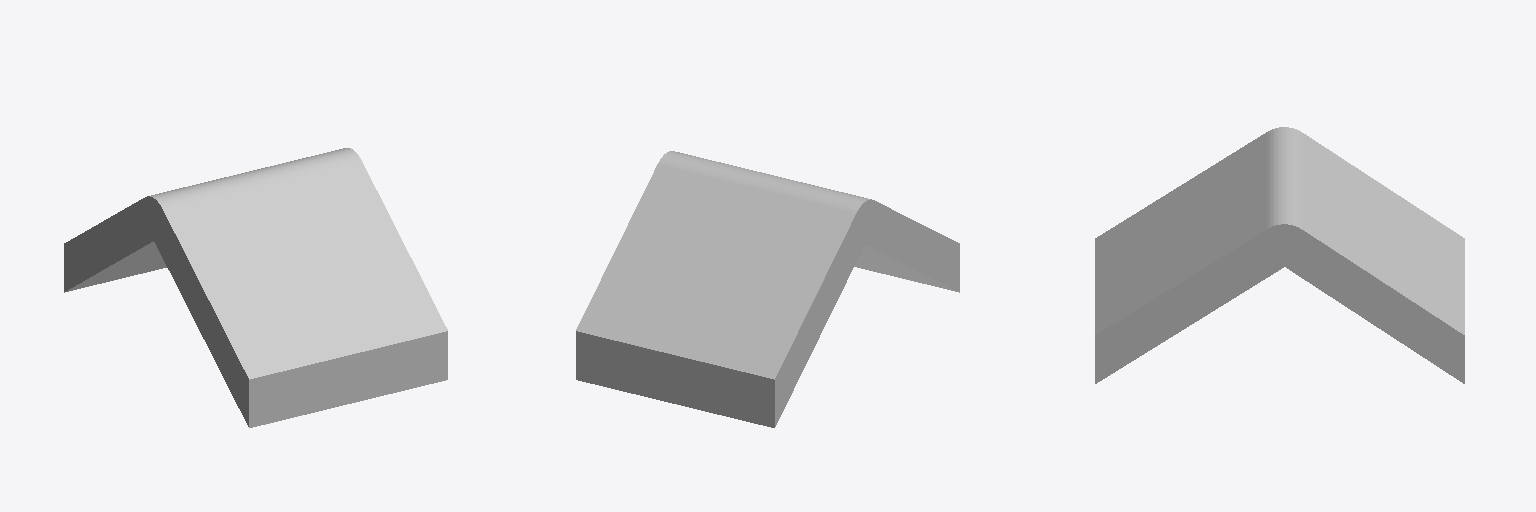
Rendered from original-6.obj.
3 renders of one model, left to right at view 1: azimuth 30°, elevation 25°; view 2: azimuth 150°, elevation 25°; view 3: azimuth 270°, elevation 25°, orthographic.
Parts seen in each view (by area): view 1: mesh17/mesh17-geometry#mesh17-geometry; view 2: mesh17/mesh17-geometry#mesh17-geometry; view 3: mesh17/mesh17-geometry#mesh17-geometry.
Part boxes in pixels (bbox=[...]): mesh17/mesh17-geometry#mesh17-geometry: bbox=[64, 148, 447, 427]; mesh17/mesh17-geometry#mesh17-geometry: bbox=[576, 151, 959, 427]; mesh17/mesh17-geometry#mesh17-geometry: bbox=[1095, 127, 1464, 383].
Bounding box in the file's own units: 0.3417 × 0.2633 × 0.551.